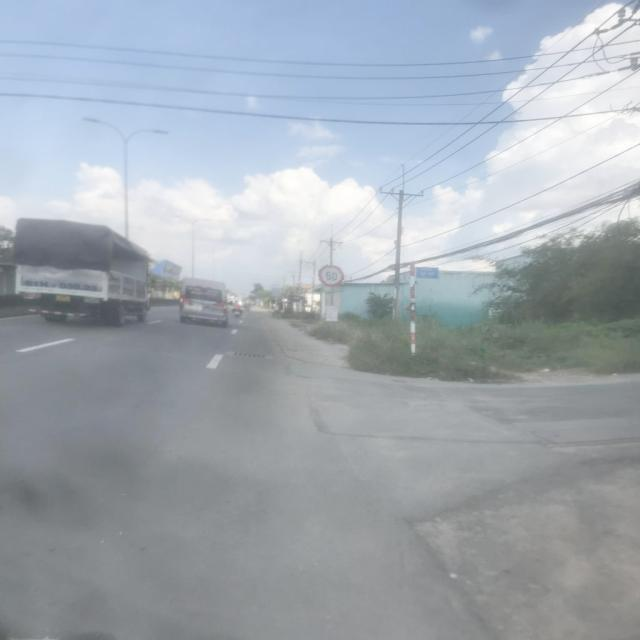127-toc-do-toi-da-50: (316, 265, 344, 287)
